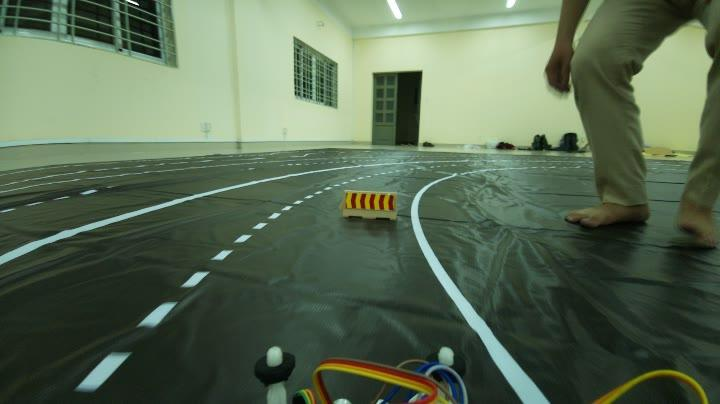roadblock: (336, 186, 406, 227)
